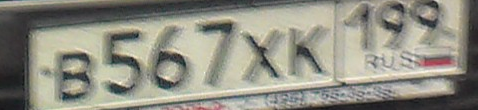character: (100, 28, 146, 94), (195, 21, 238, 87), (150, 25, 191, 94), (50, 45, 97, 105), (238, 25, 281, 87), (285, 25, 329, 81), (408, 1, 446, 57), (343, 1, 377, 54), (375, 1, 408, 54)
